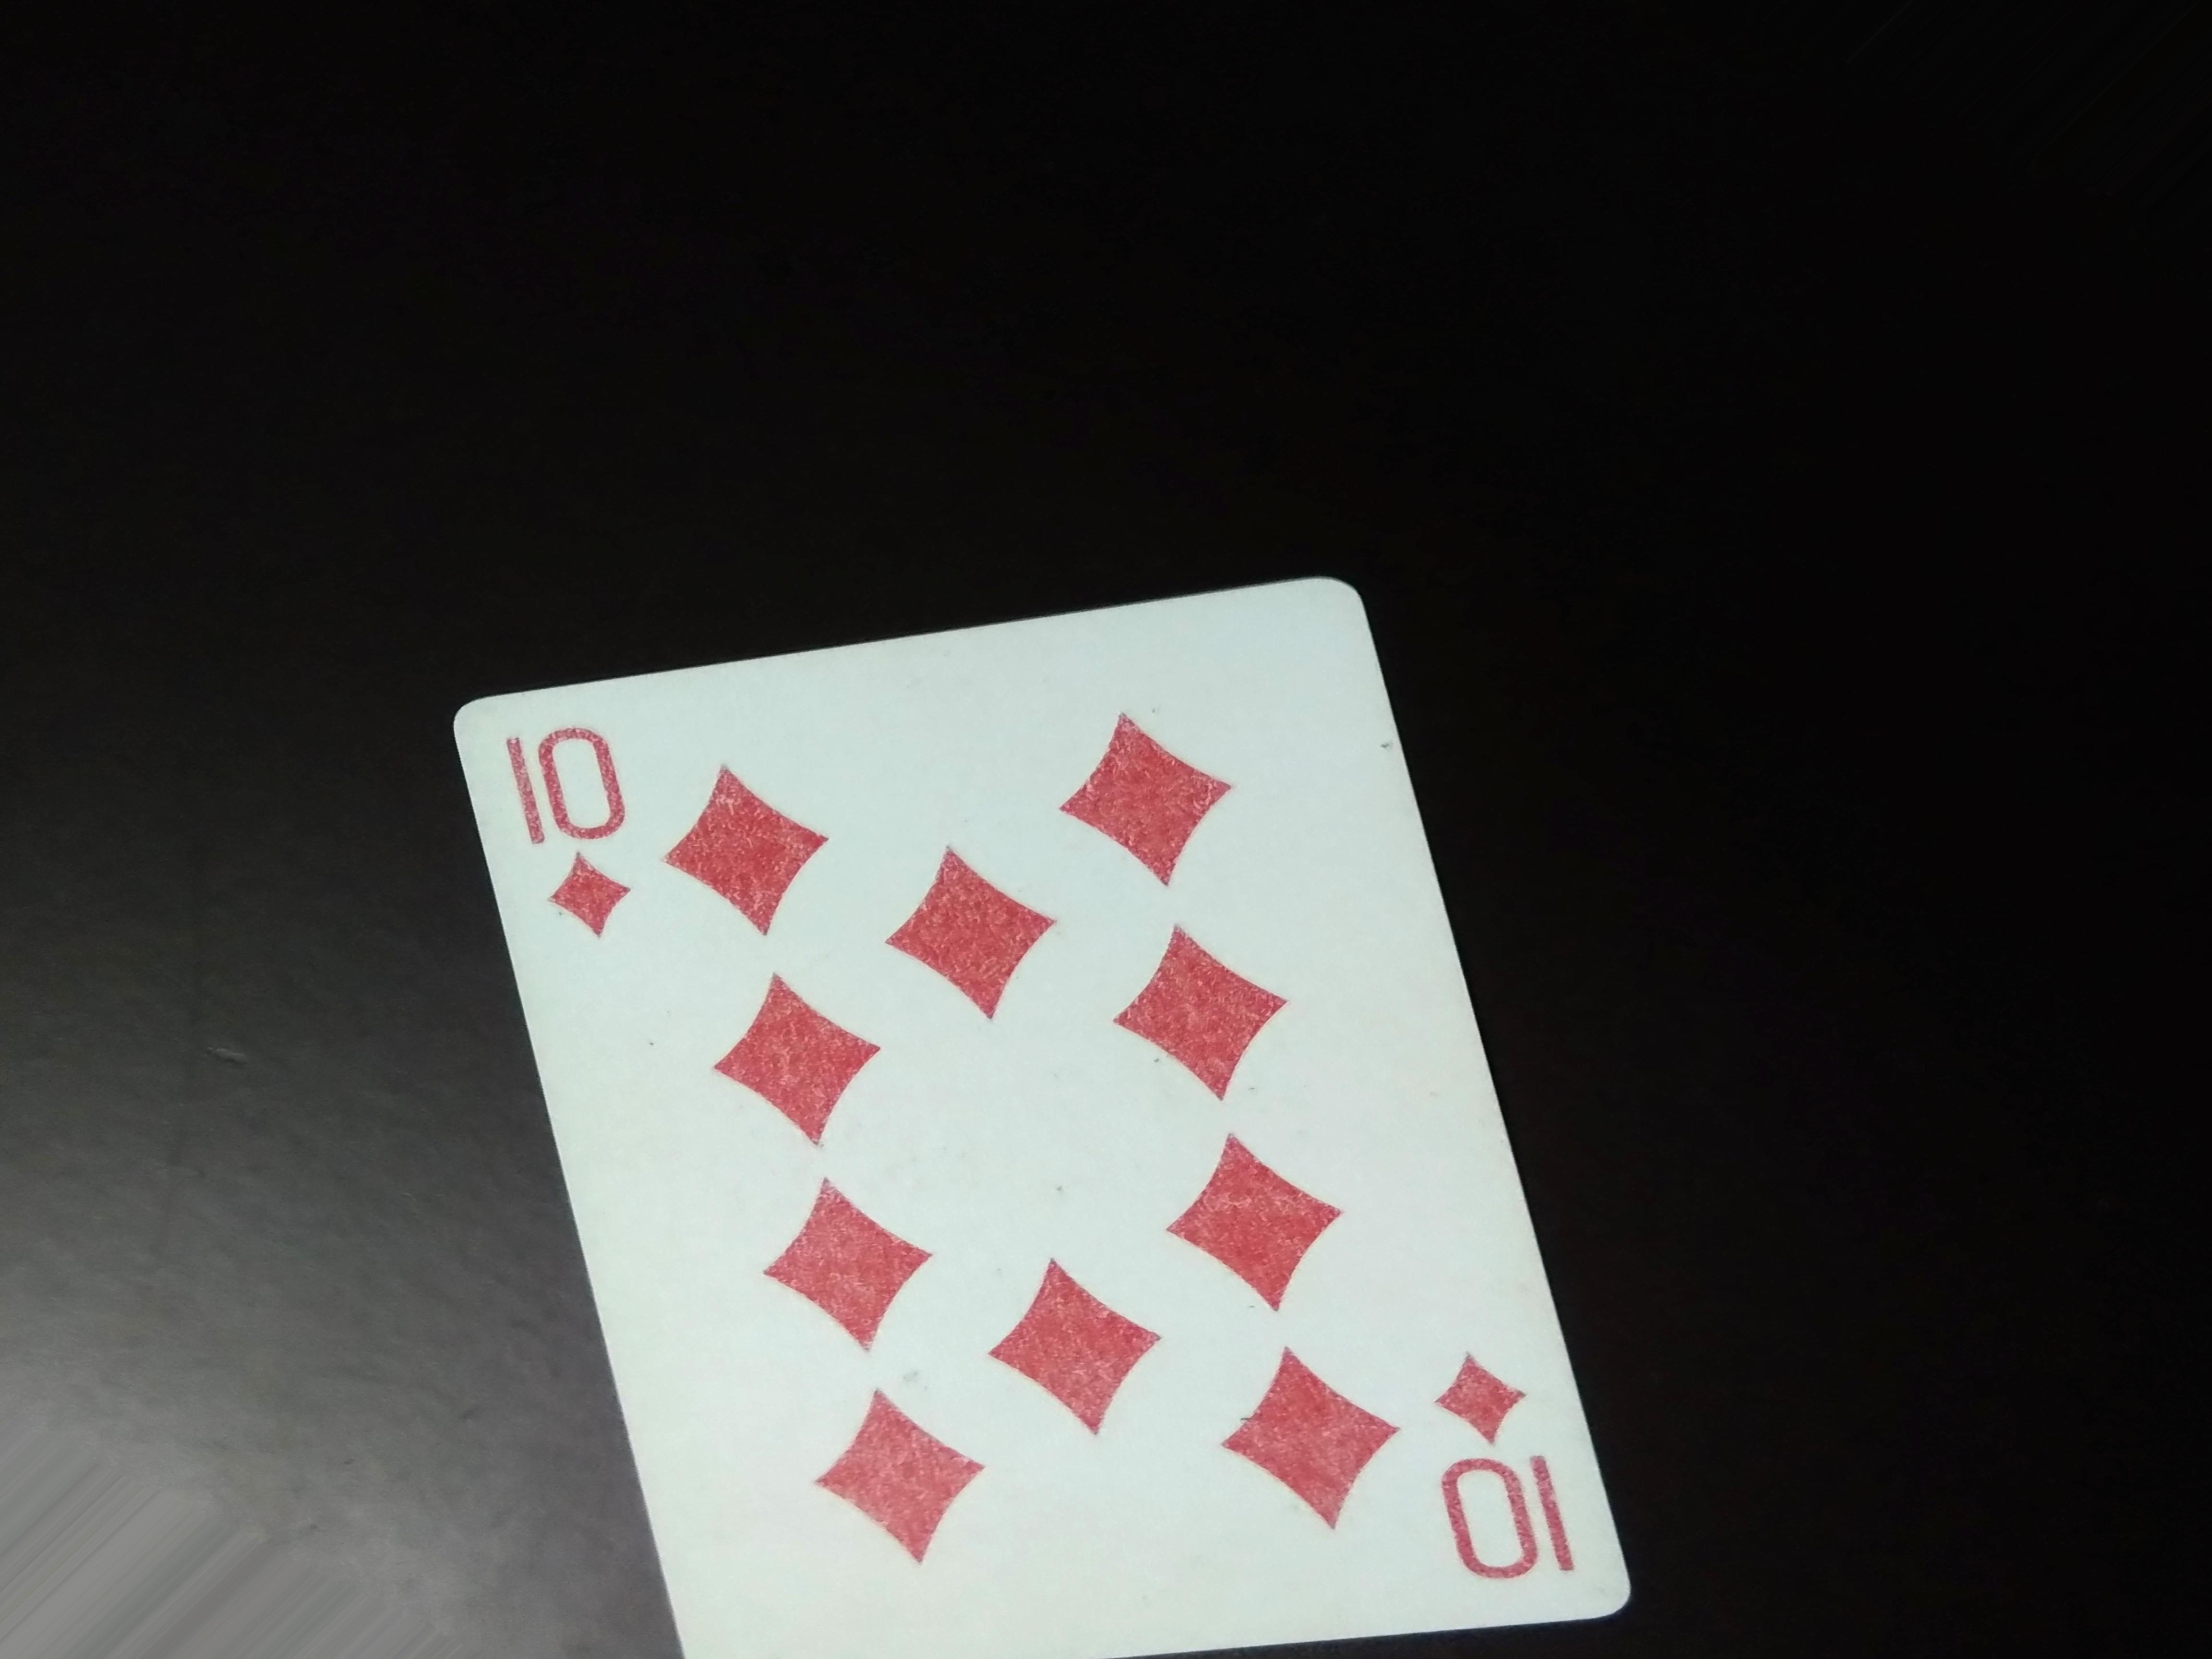10D: (1411, 1317, 1583, 1600)
